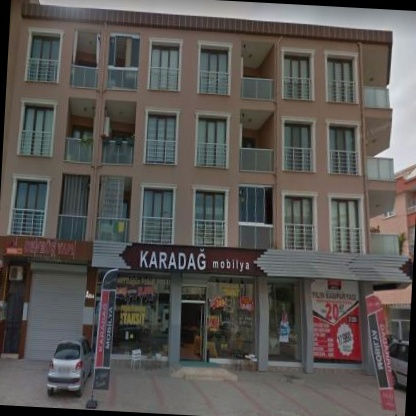door: (178, 283, 209, 360), (3, 280, 26, 354)
